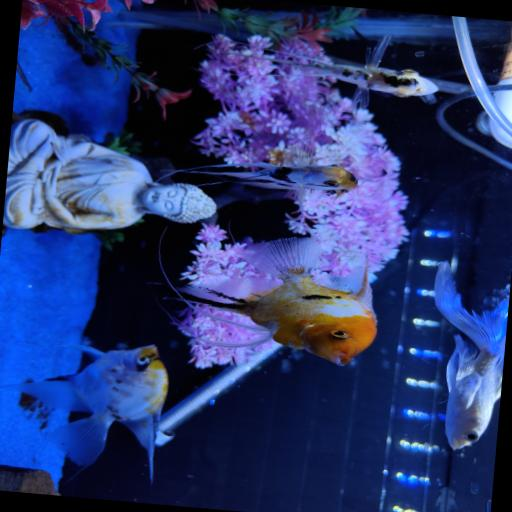Fish: (170, 237, 375, 364), (0, 344, 167, 480), (229, 34, 437, 108), (434, 261, 508, 448), (168, 150, 356, 200)
